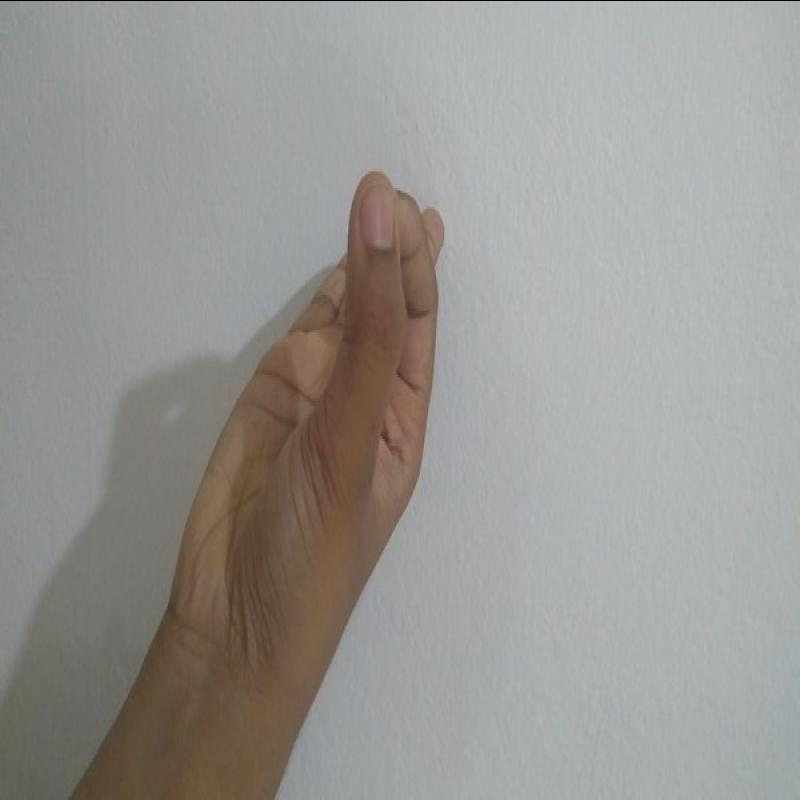Mudraakhyam: (159, 166, 478, 671)
